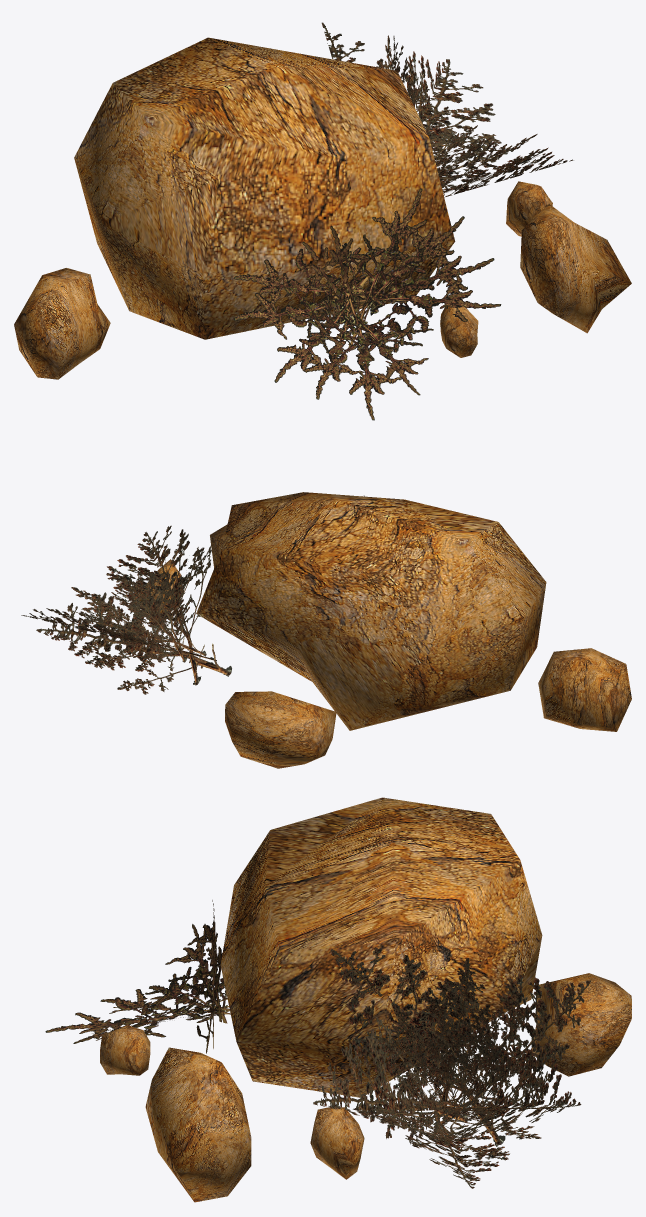
File: stone.dae
3 renders of one model, top to bottom at view 1: azimuth 30°, elevation 25°; view 2: azimuth 150°, elevation 25°; view 3: azimuth 270°, elevation 25°, orthographic. The views are drawn at different scales.
Parts seen in each view (by area): view 1: Plane.008; view 2: Plane.008; view 3: Plane.008.
Boxes of the visible parts, bbox=[...] form: Plane.008: bbox=[14, 22, 631, 420]; Plane.008: bbox=[21, 492, 631, 768]; Plane.008: bbox=[45, 797, 631, 1202].
Bounding box in the file's own units: 3.07 × 2.72 × 1.22.
Materials: 1 (1 with a texture image).
